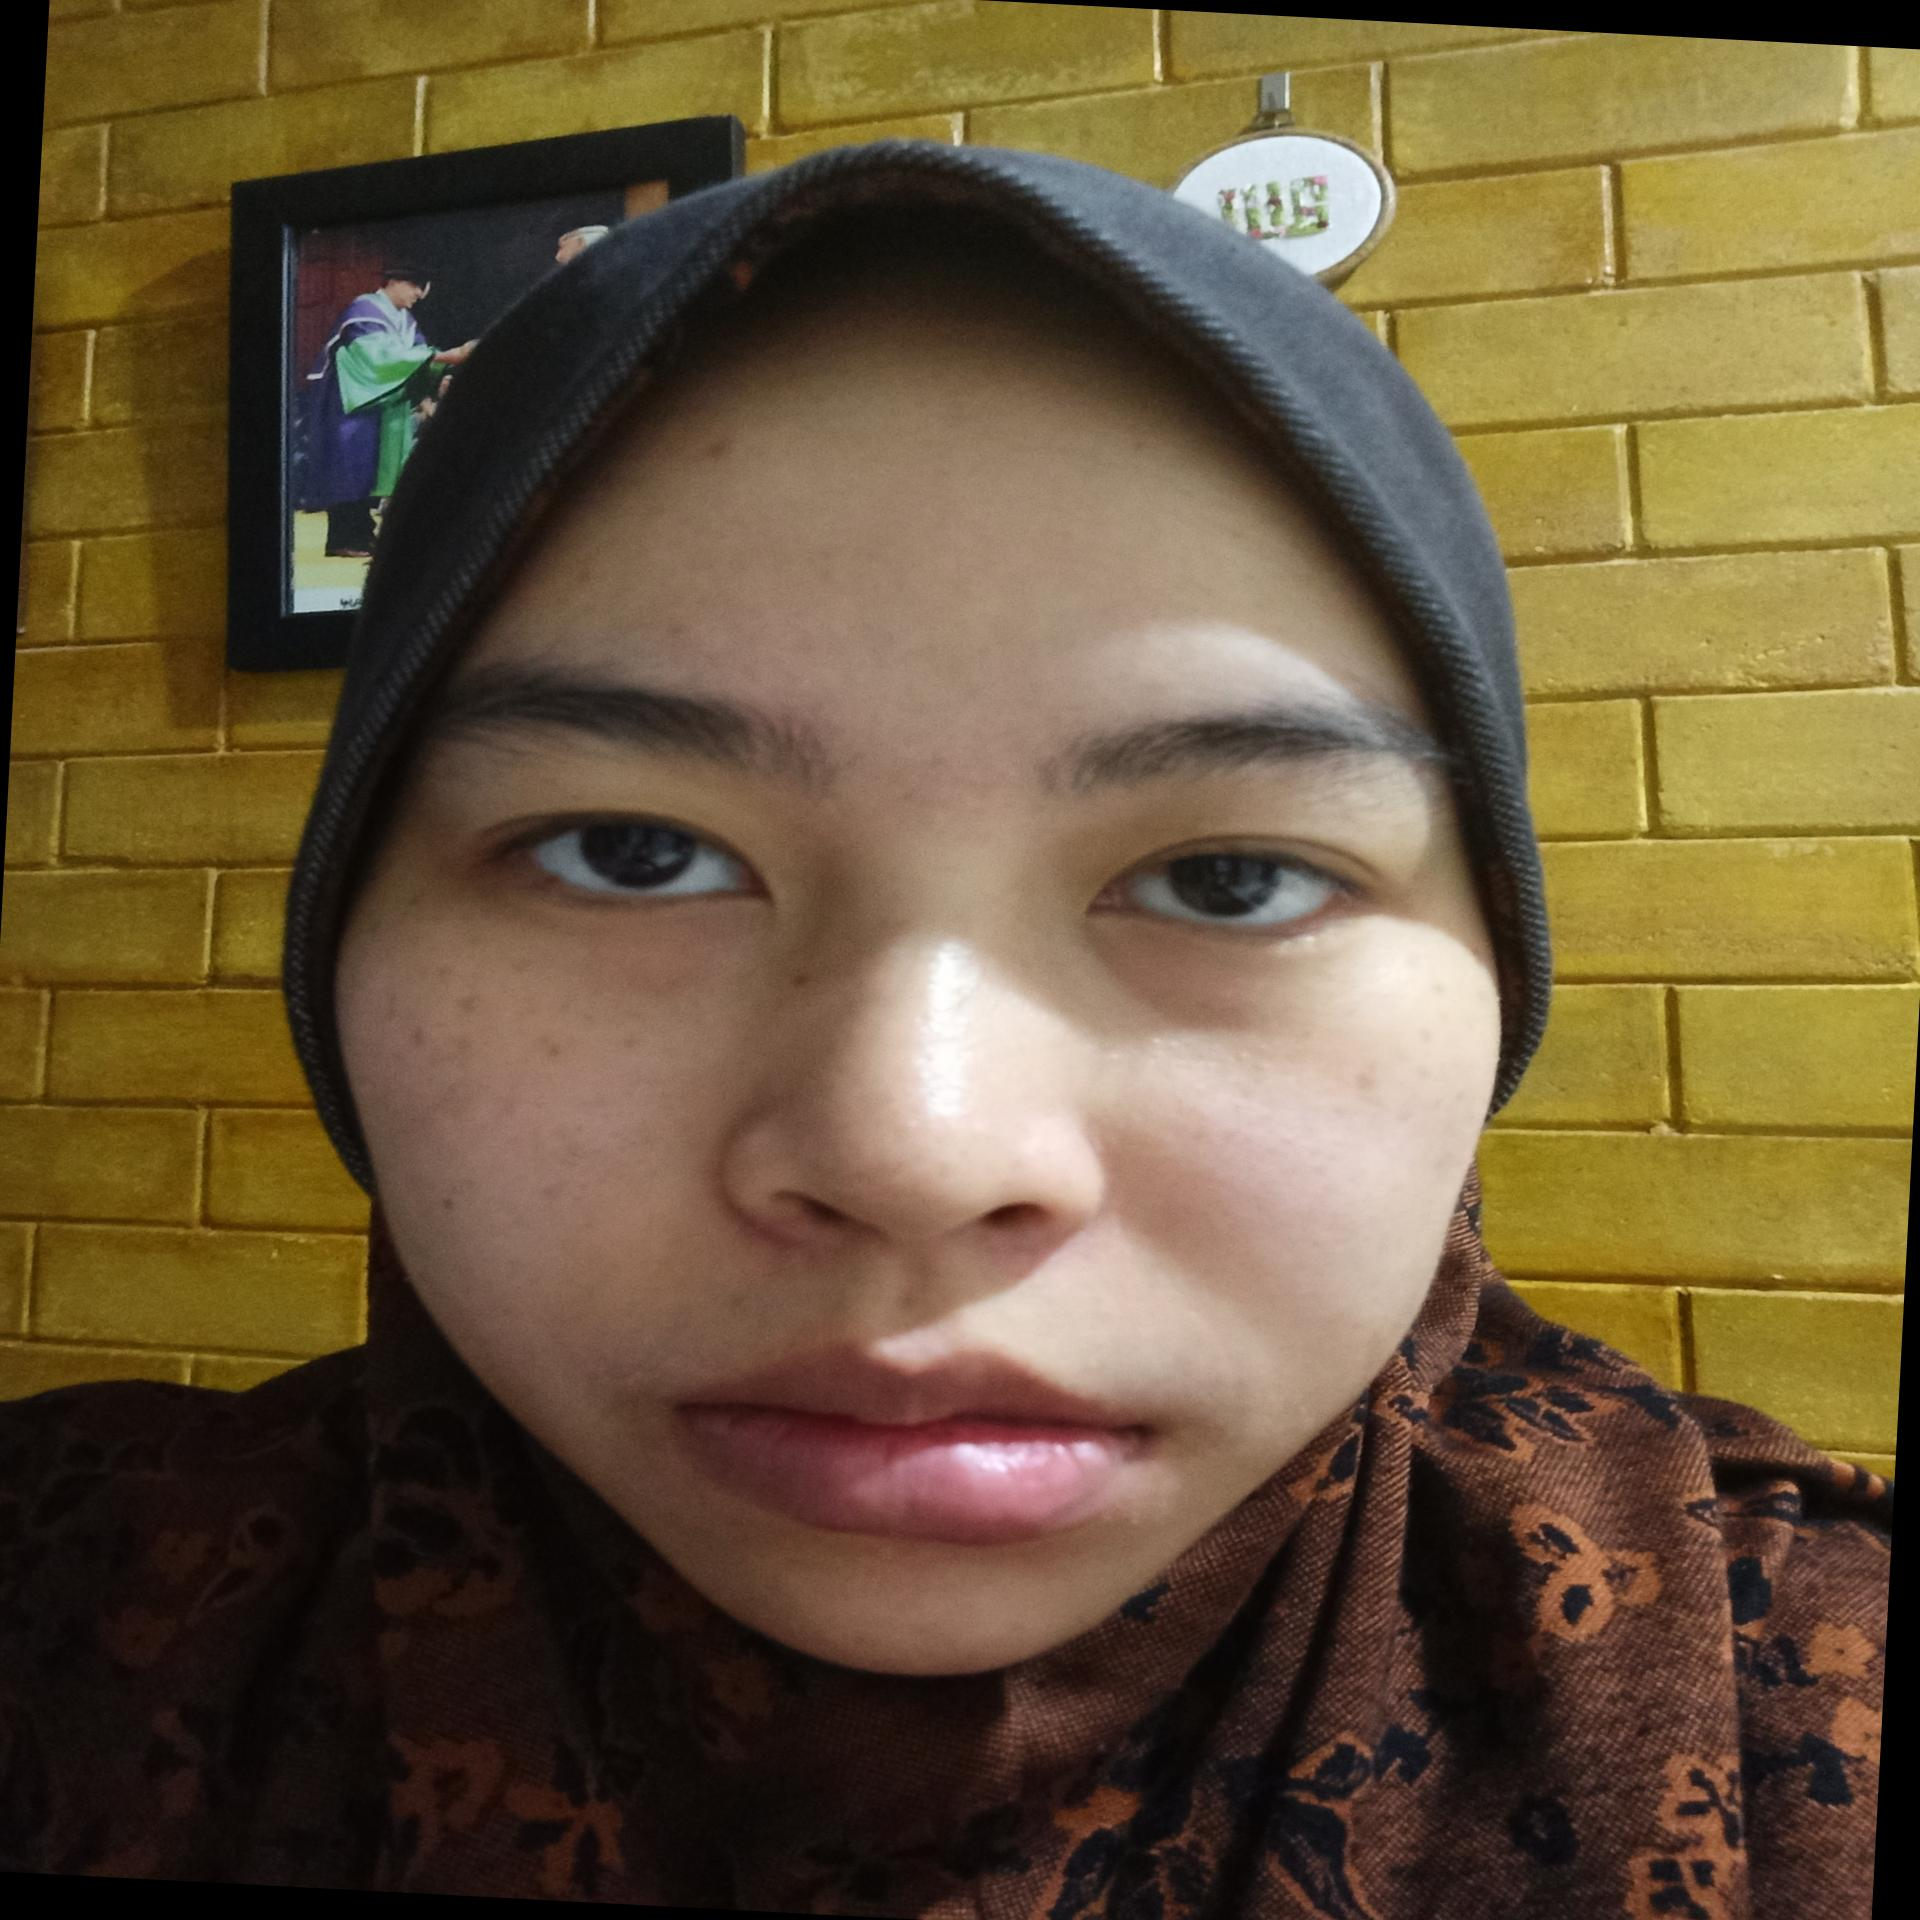Acne: (689, 429, 754, 473), (645, 607, 707, 645), (1120, 431, 1162, 459), (564, 559, 603, 587)
Englarged Pores: (853, 1044, 1009, 1187)
